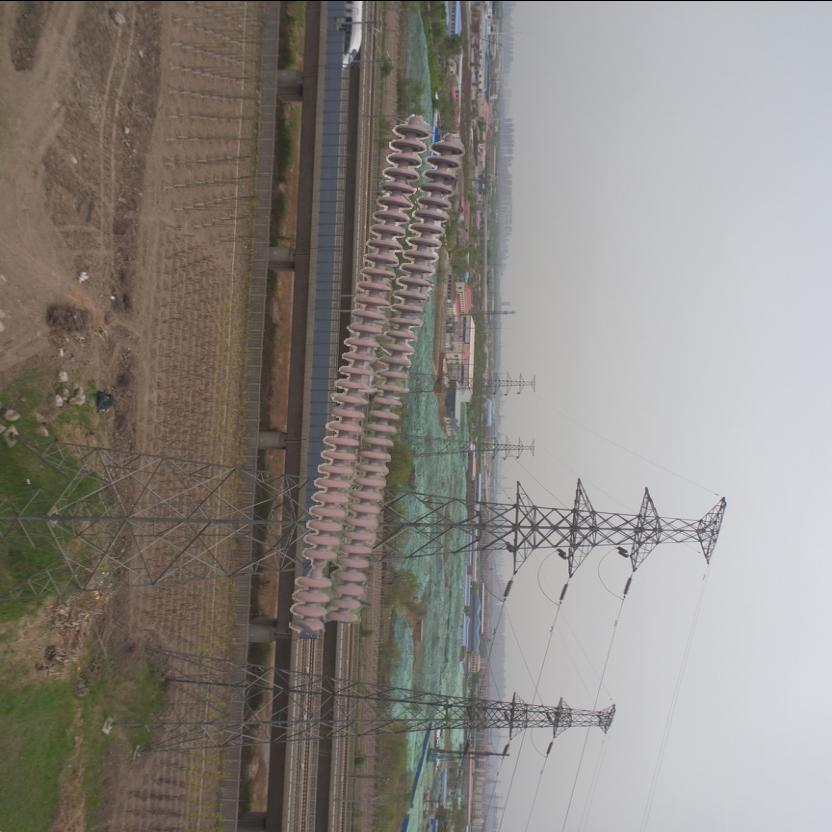defect: (294, 544, 340, 592)
